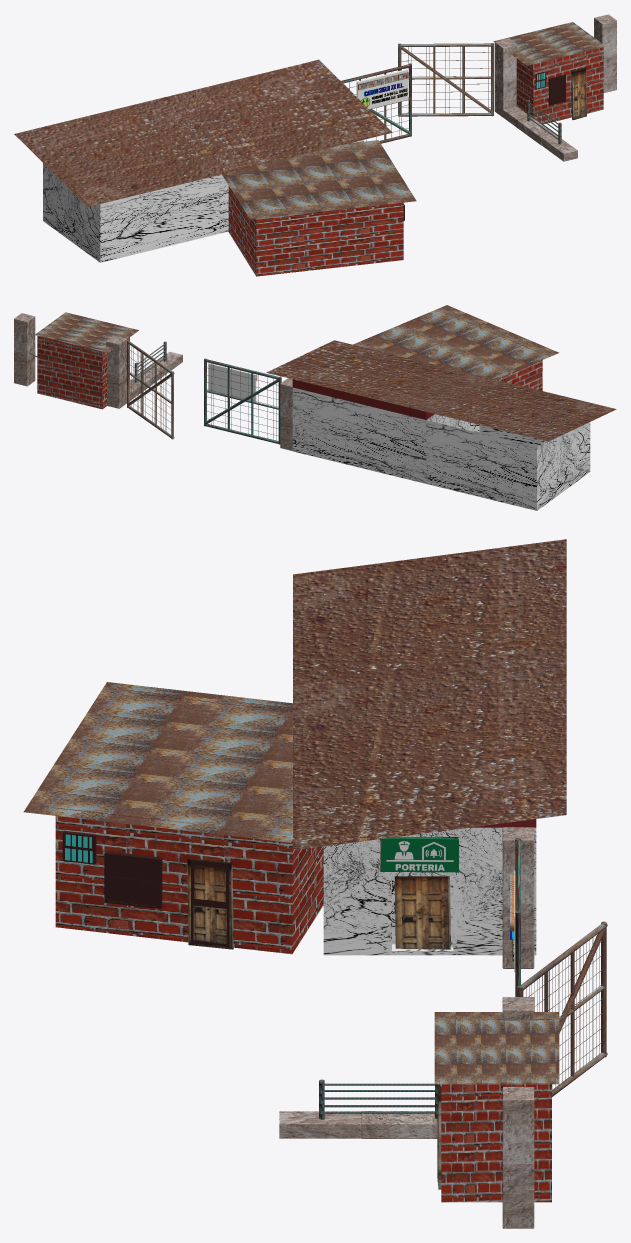
File: ENTRADA.glb
The picture shows the model from 3 angles, top to bottom: view 1: azimuth 30°, elevation 25°; view 2: azimuth 150°, elevation 25°; view 3: azimuth 270°, elevation 25°; orthographic projection. The views are drawn at different scales.
Parts seen in each view (by area): view 1: Cube.017, Cube.010, Cube.005, Cube.008, puertDer, Cube.001, logo, Cube.006, Cube.003, puertIzq, Empty.002; view 2: Cube.017, Cube.005, Cube.010, Cube.008, puertIzq, puertDer, Cube.003, Cube.001, logo, Cube.009, Cube.002, Cube.006; view 3: Cube.005, Cube.010, Cube.017, Cube.008, puertDer, Cube.003, Cube.006, Empty.003, Cube.002, Empty.004, Empty.006, puertIzq.
Part boxes in pixels (<box>): Cube.017: <box>14,88,273,262</box>; Cube.010: <box>222,140,416,276</box>; Cube.005: <box>134,59,392,233</box>; Cube.008: <box>493,22,606,124</box>; puertDer: <box>398,43,493,116</box>; Cube.001: <box>494,38,517,117</box>; logo: <box>356,69,409,109</box>; Cube.006: <box>503,106,577,161</box>; Cube.003: <box>594,14,616,92</box>; puertIzq: <box>341,63,411,143</box>; Empty.002: <box>571,67,586,119</box>; Cube.017: <box>377,367,616,510</box>; Cube.005: <box>266,340,505,483</box>; Cube.010: <box>353,305,559,390</box>; Cube.008: <box>35,312,138,409</box>; puertIzq: <box>204,358,281,444</box>; puertDer: <box>127,340,174,439</box>; Cube.003: <box>14,313,35,386</box>; Cube.001: <box>106,335,127,408</box>; logo: <box>208,363,257,402</box>; Cube.009: <box>292,379,434,419</box>; Cube.002: <box>280,378,292,450</box>; Cube.006: <box>130,352,182,400</box>; Cube.005: <box>293,647,566,955</box>; Cube.010: <box>23,682,323,954</box>; Cube.017: <box>293,539,566,739</box>; Cube.008: <box>434,1012,559,1202</box>; puertDer: <box>517,921,607,1096</box>; Cube.003: <box>502,1087,534,1228</box>; Cube.006: <box>279,1111,437,1138</box>; Empty.003: <box>394,876,450,949</box>; Cube.002: <box>502,827,534,968</box>; Empty.004: <box>187,858,233,949</box>; Empty.006: <box>381,837,458,872</box>; puertIzq: <box>515,837,520,996</box>.
Size of the model in its own units: 175 by 25.33 by 81.69.
Materials: 20 (7 with a texture image).
